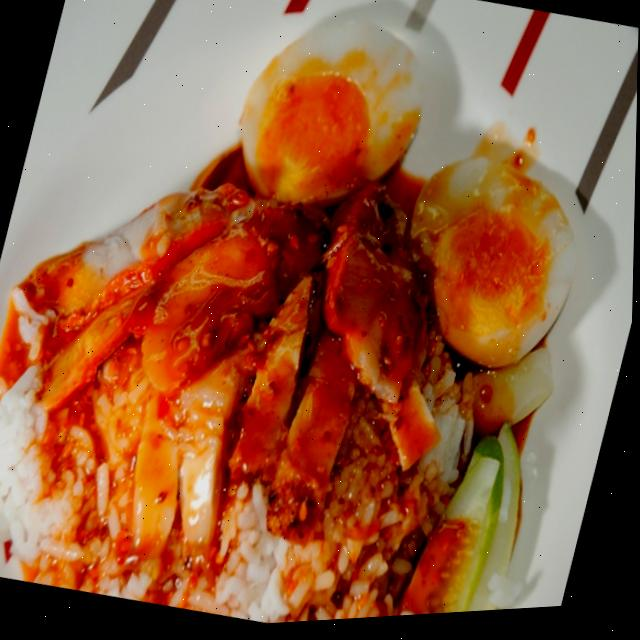猪肉菜式: (7, 76, 549, 556)
